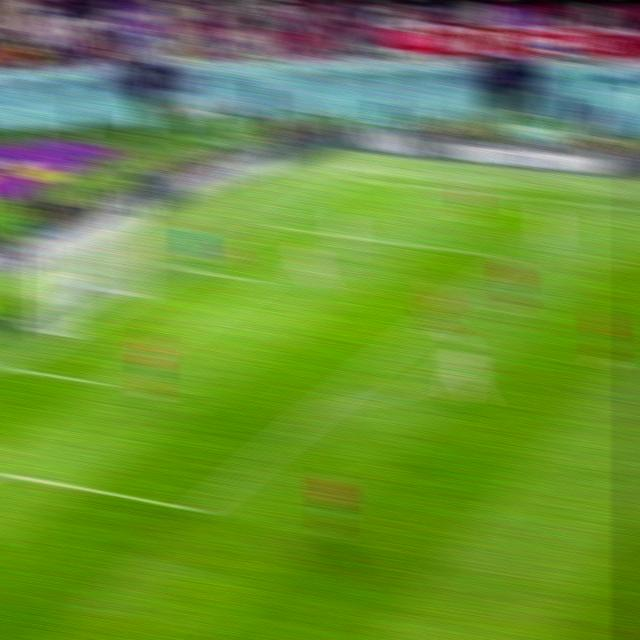bigarea_bottom_inner: (182, 493, 216, 523)
bigarea_top_inner: (496, 248, 523, 267)
bigarea_top_outter: (253, 214, 283, 234)
bottom_arc_area_intersection: (311, 390, 343, 417)
corner: (339, 171, 368, 187)
smallarea_bottom_inner: (87, 369, 120, 397)
smallarea_bottom_outter: (0, 355, 25, 379)
smallarea_top_inner: (251, 271, 283, 293)
smallarea_top_outter: (174, 259, 203, 278)
top_arc_area_intersection: (424, 306, 452, 326)
